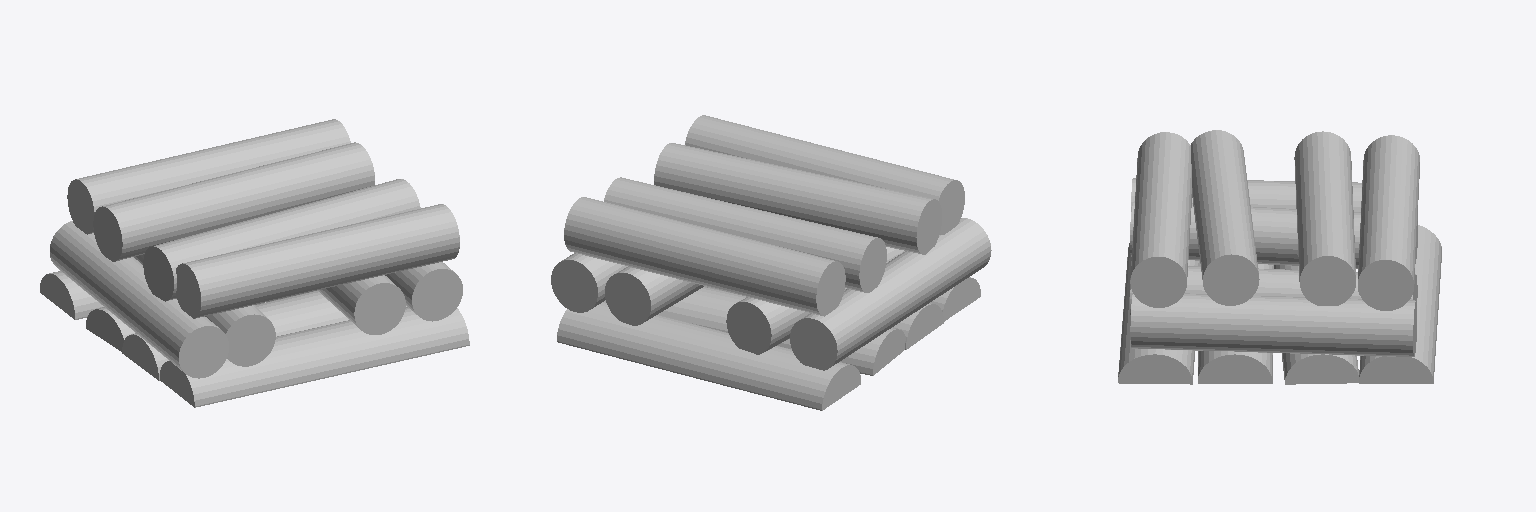
Rendered from fireplace.obj.
The picture shows the model from 3 angles: view 1: azimuth 30°, elevation 25°; view 2: azimuth 150°, elevation 25°; view 3: azimuth 270°, elevation 25°; orthographic projection.
Visible parts, largest first — view 1: full_Walec.007; view 2: full_Walec.007; view 3: full_Walec.007.
Boxes of the visible parts, <box> form: full_Walec.007: <box>40,119,469,407</box>; full_Walec.007: <box>551,115,991,410</box>; full_Walec.007: <box>1118,130,1441,384</box>.
Size of the model in its own units: 6.55 by 2.61 by 6.12.